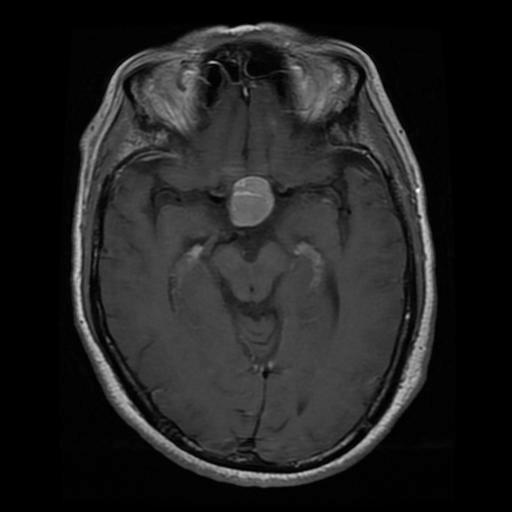Tumour-Pituitary: (227, 174, 277, 234)
